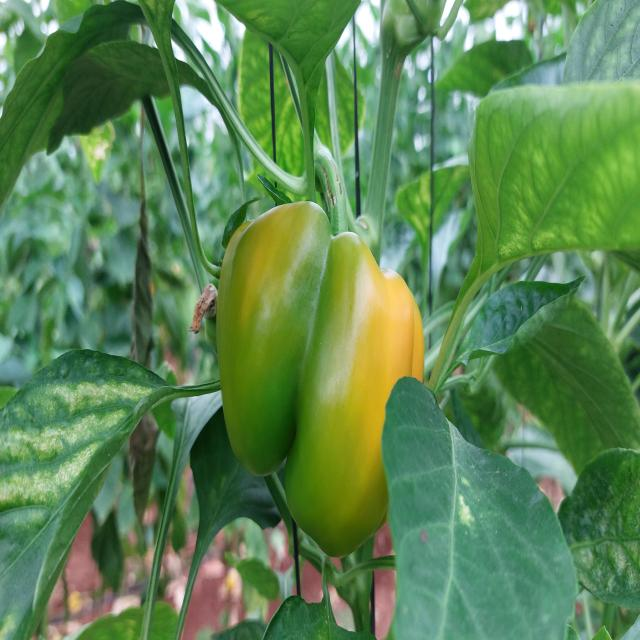GreenishYellow--Can-be-Harvested: (200, 140, 430, 548)
